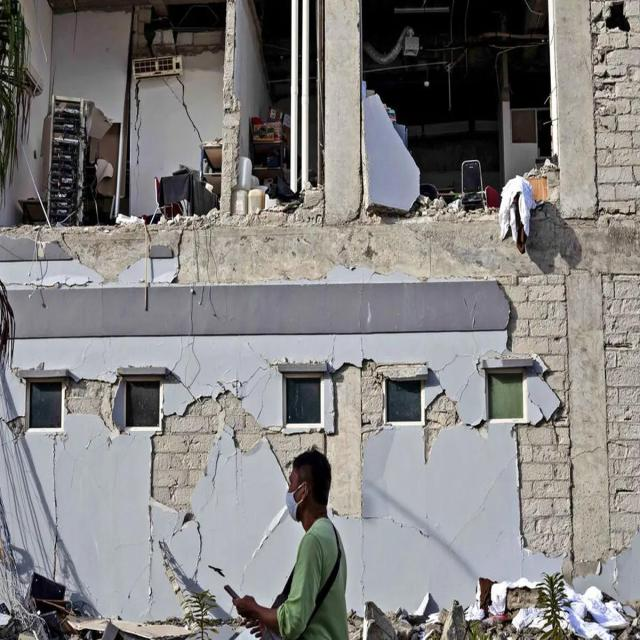damage: (7, 174, 335, 272), (353, 532, 640, 640), (0, 550, 261, 639), (135, 379, 268, 524), (345, 346, 474, 475), (363, 168, 544, 252), (112, 0, 240, 99), (47, 348, 123, 446), (416, 393, 466, 462)
